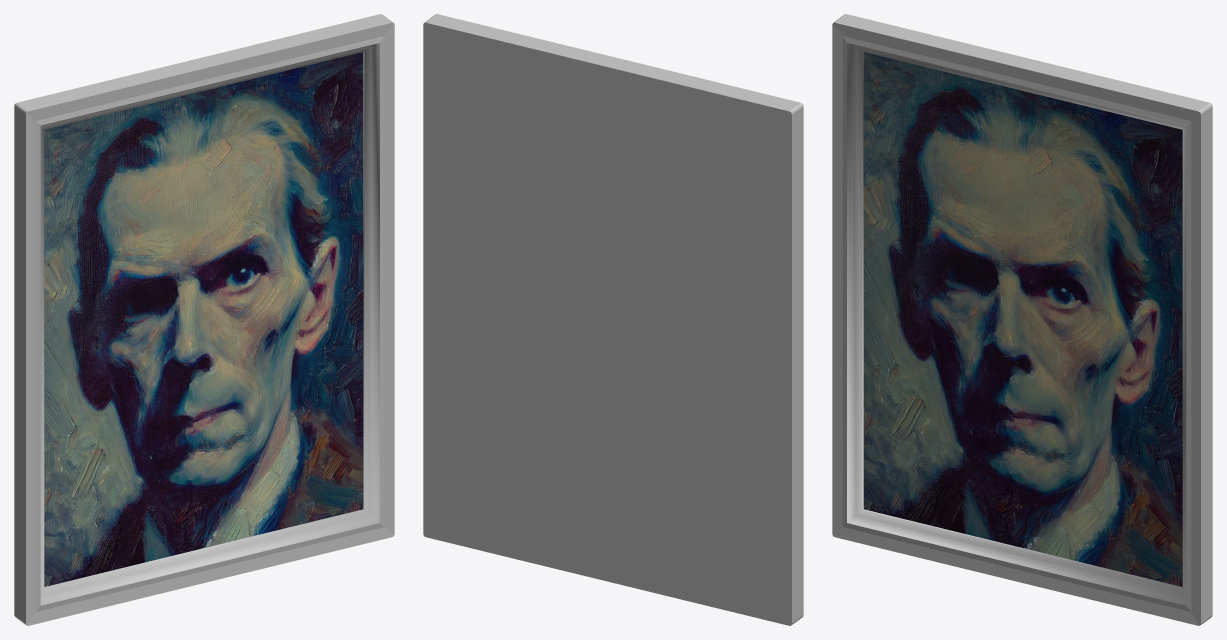
File: painting4.fbx
The picture shows the model from 3 angles, left to right: view 1: azimuth 30°, elevation 25°; view 2: azimuth 150°, elevation 25°; view 3: azimuth 330°, elevation 25°; orthographic projection.
Parts seen in each view (by area): view 1: painting4; view 2: painting4; view 3: painting4.
Boxes of the visible parts, bbox=[...] form: painting4: bbox=[14, 14, 394, 625]; painting4: bbox=[423, 14, 803, 625]; painting4: bbox=[832, 14, 1212, 625].
Size of the model in its own units: 90 by 120 by 5.
